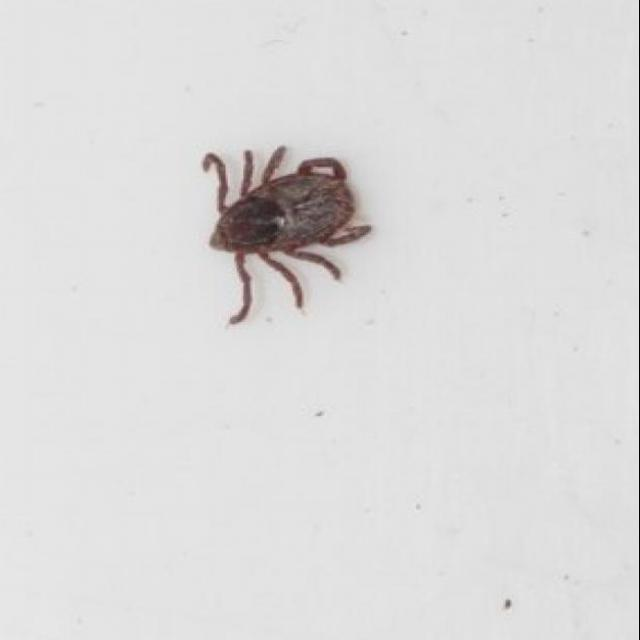Rhipicephalus Sanguineus-F: (202, 149, 377, 326)
